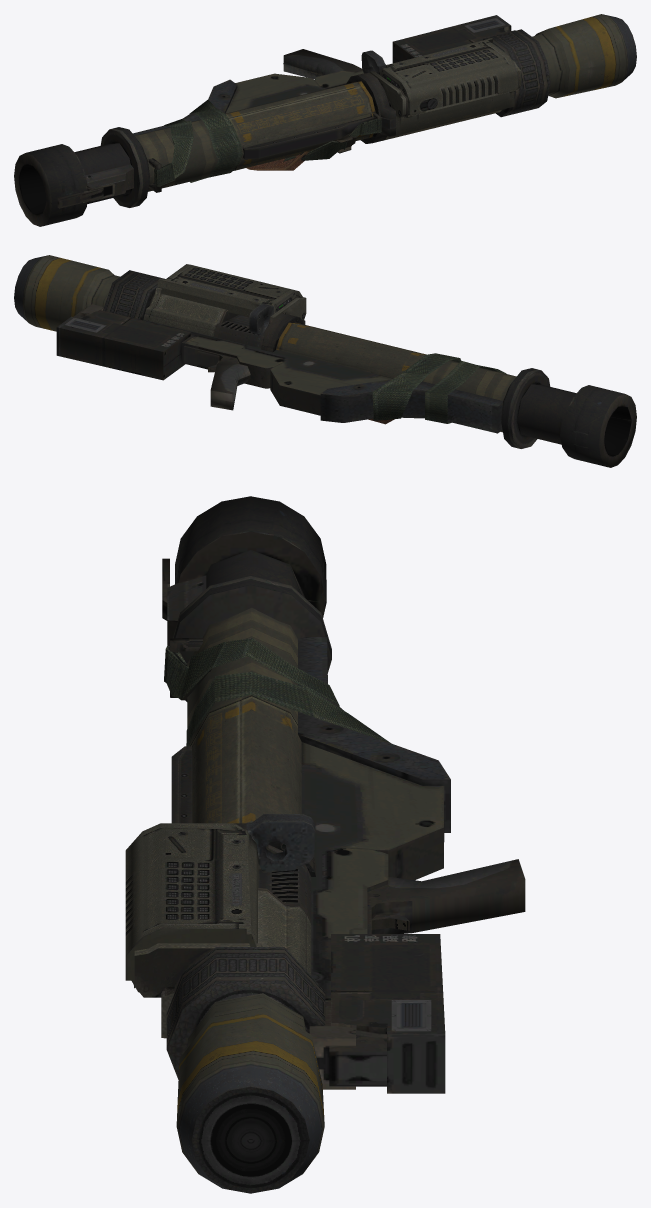
Rendered from t6_wpn_launch_fhj18_stow_LOD0.obj.
3 views of the same model, one above another, from view 1: azimuth 30°, elevation 25°; view 2: azimuth 150°, elevation 25°; view 3: azimuth 270°, elevation 25° (orthographic). The views are drawn at different scales.
Visible parts, largest first — view 1: mtl_t6_wpn_launch_fhj18_camo2, mtl_t6_wpn_launch_fhj18, mtl_t6_wpn_launch_fhj18_camo4, mtl_t6_wpn_launch_fhj18_camo3; view 2: mtl_t6_wpn_launch_fhj18_camo2, mtl_t6_wpn_launch_fhj18, mtl_t6_wpn_launch_fhj18_camo4, mtl_t6_wpn_launch_fhj18_camo3; view 3: mtl_t6_wpn_launch_fhj18_camo2, mtl_t6_wpn_launch_fhj18, mtl_t6_wpn_launch_fhj18_camo4, mtl_t6_wpn_launch_fhj18_camo3.
Boxes of the visible parts, <box> form: mtl_t6_wpn_launch_fhj18_camo2: <box>14,14,636,226</box>; mtl_t6_wpn_launch_fhj18: <box>85,14,626,201</box>; mtl_t6_wpn_launch_fhj18_camo4: <box>74,15,518,204</box>; mtl_t6_wpn_launch_fhj18_camo3: <box>57,34,560,208</box>; mtl_t6_wpn_launch_fhj18_camo2: <box>14,255,636,467</box>; mtl_t6_wpn_launch_fhj18: <box>24,255,516,432</box>; mtl_t6_wpn_launch_fhj18_camo4: <box>56,264,576,444</box>; mtl_t6_wpn_launch_fhj18_camo3: <box>80,275,394,424</box>; mtl_t6_wpn_launch_fhj18_camo2: <box>164,496,525,1193</box>; mtl_t6_wpn_launch_fhj18: <box>134,575,386,1193</box>; mtl_t6_wpn_launch_fhj18_camo4: <box>125,550,445,1093</box>; mtl_t6_wpn_launch_fhj18_camo3: <box>162,558,444,1089</box>.
Bounding box in the file's own units: 89.45 × 12.46 × 26.28.
